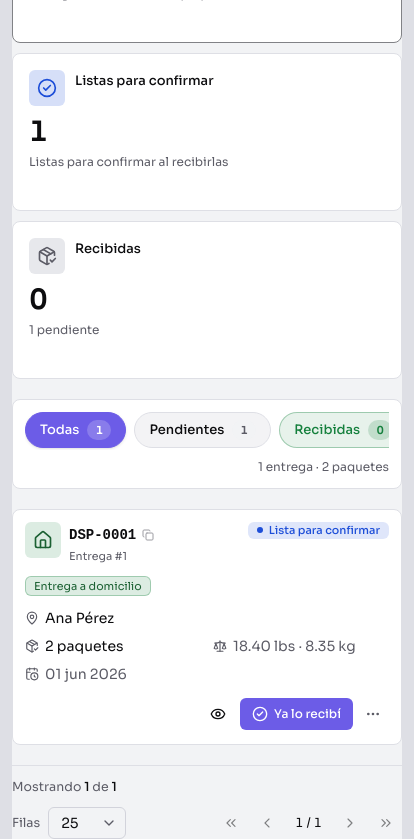
Test: MisEntregasPage · listado de cliente › muestra el menú de exportaciones agrupado cuando hay permiso
(page scrolled)
Click the button named "más acciones de la entrega" at (373, 714), box [357,698,389,730]
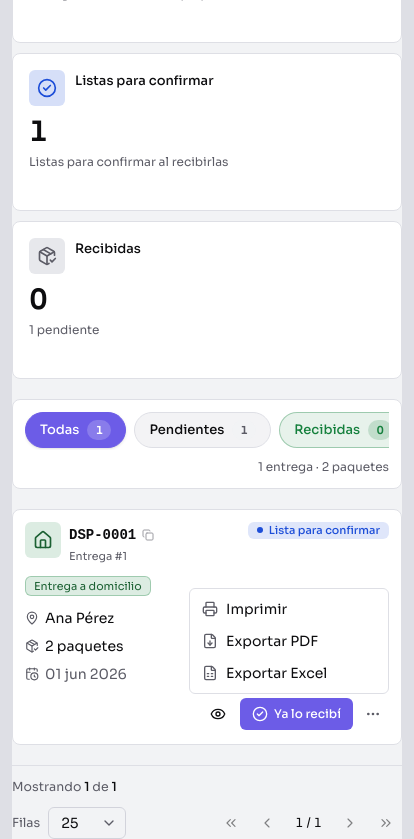
Now the text "Imprimir" is shown, box [226,600,287,618]
Now the text "Exportar PDF" is shown, box [226,632,318,650]
Now the text "Exportar Excel" is shown, box [226,664,327,682]
